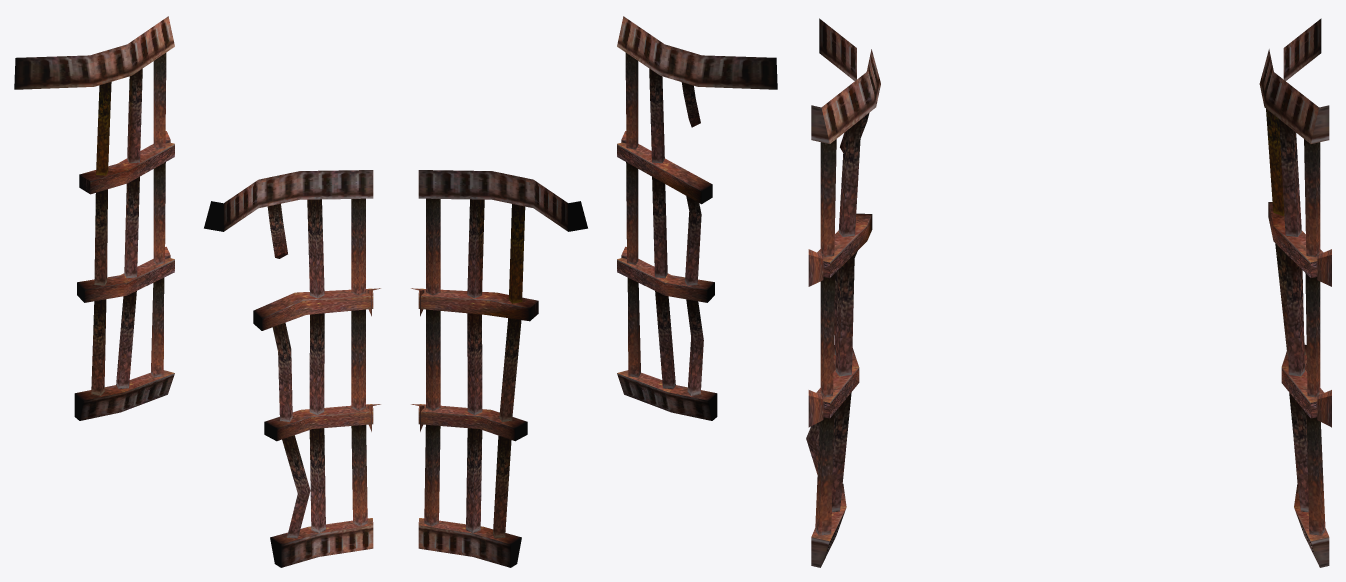
File: M12A_DrainGateOpen.glb
3 views of the same model, side by side, from view 1: azimuth 30°, elevation 25°; view 2: azimuth 150°, elevation 25°; view 3: azimuth 270°, elevation 25° (orthographic). The views are drawn at different scales.
Visible parts, largest first — view 1: M12A_DRAINGATEOPEN; view 2: M12A_DRAINGATEOPEN; view 3: M12A_DRAINGATEOPEN.
Boxes of the visible parts, <box> form: M12A_DRAINGATEOPEN: <box>14,16,380,567</box>; M12A_DRAINGATEOPEN: <box>411,16,777,567</box>; M12A_DRAINGATEOPEN: <box>806,18,1331,567</box>.
Size of the model in its own units: 1.78 by 3.89 by 4.03.
1 material, 1 textured.
